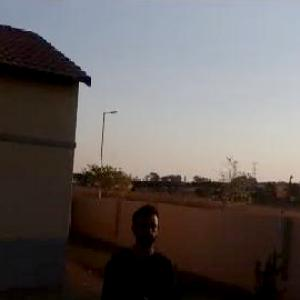follow: (94, 198, 179, 299)
